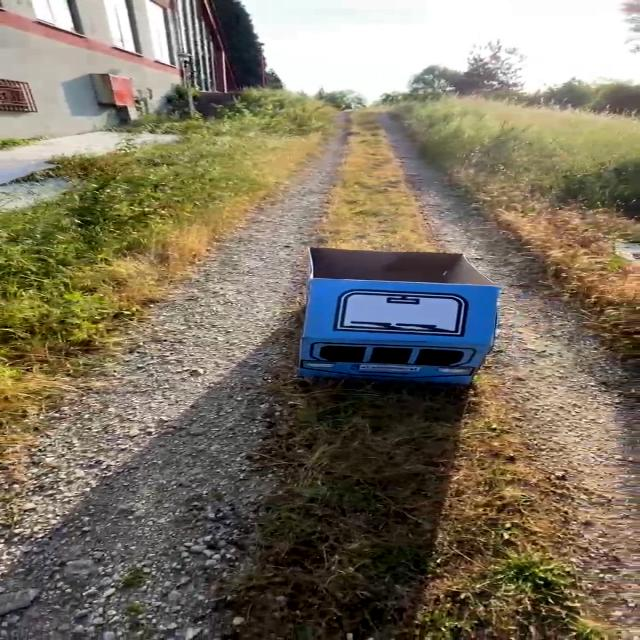blue_car: (219, 229, 519, 414)
